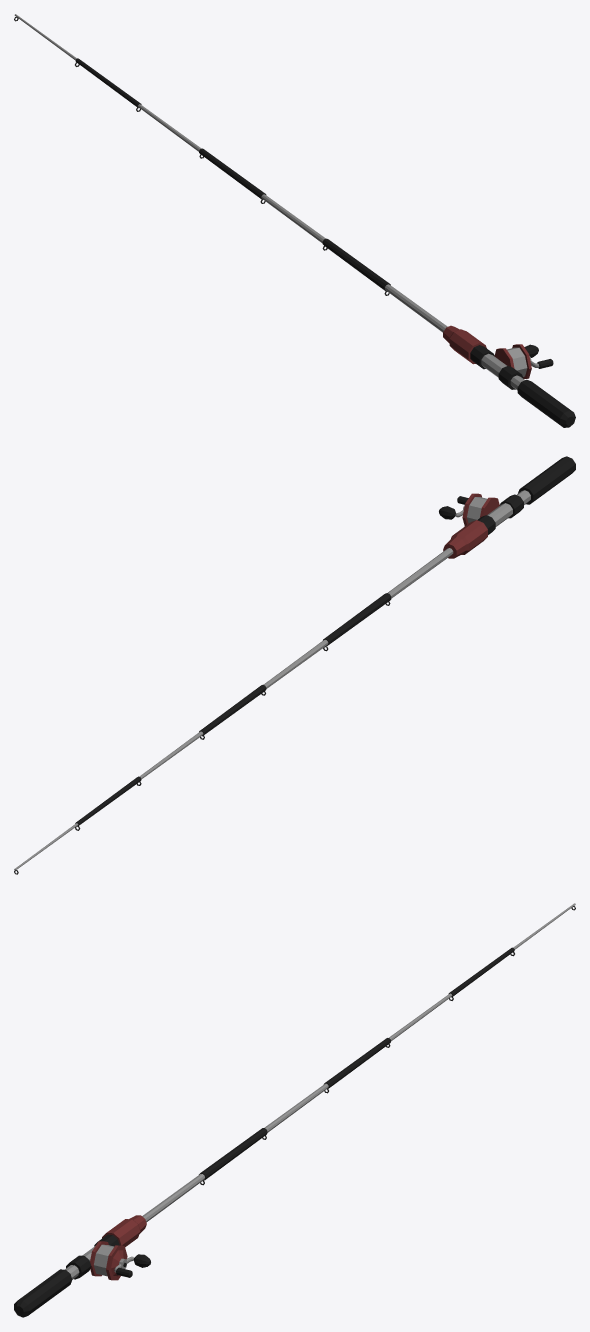
File: FishingRodNoAnimations.fbx
3 views of the same model, one above another, from view 1: azimuth 30°, elevation 25°; view 2: azimuth 150°, elevation 25°; view 3: azimuth 330°, elevation 25° (orthographic).
Parts seen in each view (by area): view 1: Reel1; view 2: Reel1; view 3: Reel1.
Boxes of the visible parts, bbox=[...] form: Reel1: bbox=[14, 14, 575, 427]; Reel1: bbox=[14, 456, 575, 874]; Reel1: bbox=[14, 903, 575, 1317].
Size of the model in its own units: 0.7533 by 0.4202 by 12.35.
